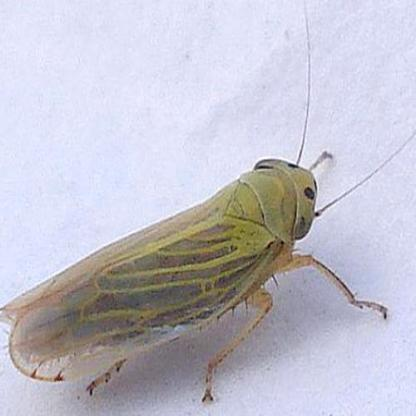green-leafhopper: (2, 157, 392, 400)
